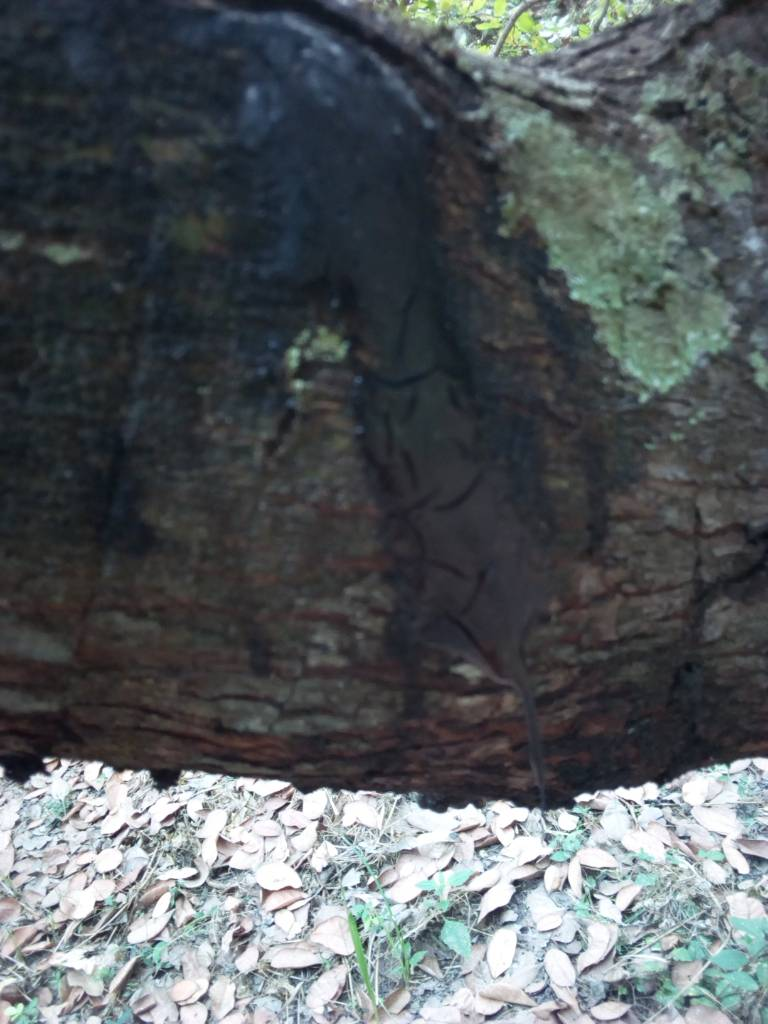Gommose: (21, 22, 488, 519)
